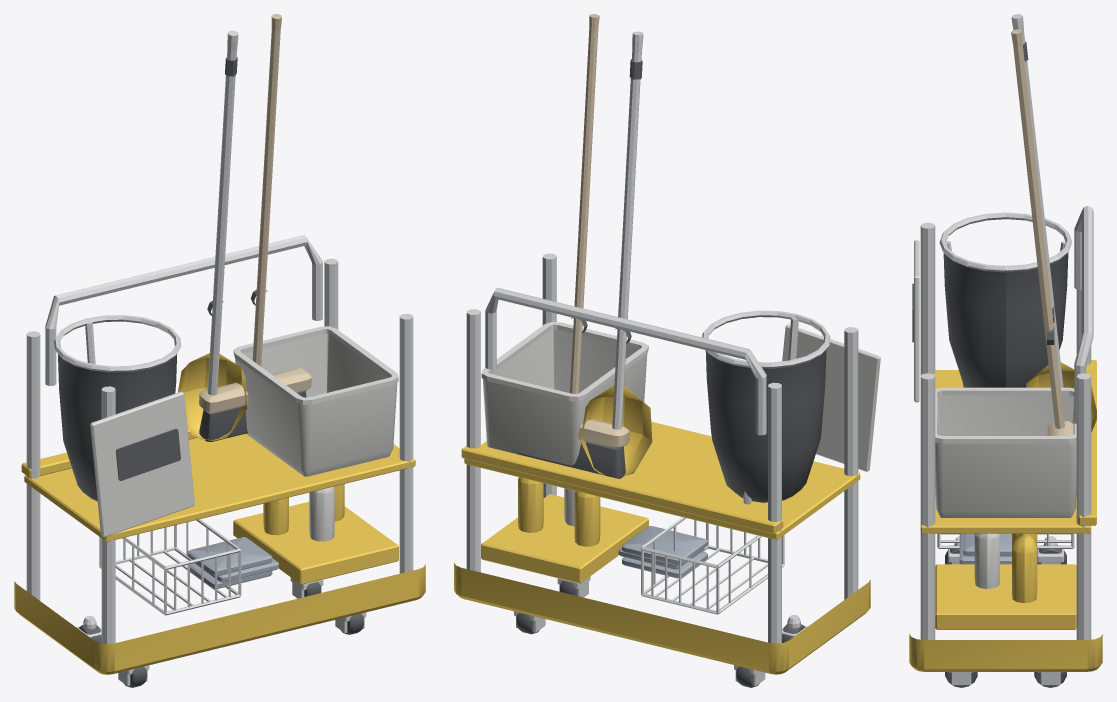
The model's file is laundrette-and-cleaning-janitorial-trolley-signal-ec6ab1ae__25639.glb.
3 renders of one model, left to right at view 1: azimuth 30°, elevation 25°; view 2: azimuth 150°, elevation 25°; view 3: azimuth 270°, elevation 25°, orthographic. The views are drawn at different scales.
Parts seen in each view (by area): view 1: janitorial-trolley-signal; view 2: janitorial-trolley-signal; view 3: janitorial-trolley-signal.
Boxes of the visible parts, x1=… form: janitorial-trolley-signal: x1=14, y1=14, x2=425, y2=687; janitorial-trolley-signal: x1=454, y1=14, x2=880, y2=687; janitorial-trolley-signal: x1=909, y1=14, x2=1102, y2=687.
Size of the model in its own units: 1.08 by 1.87 by 0.52.
